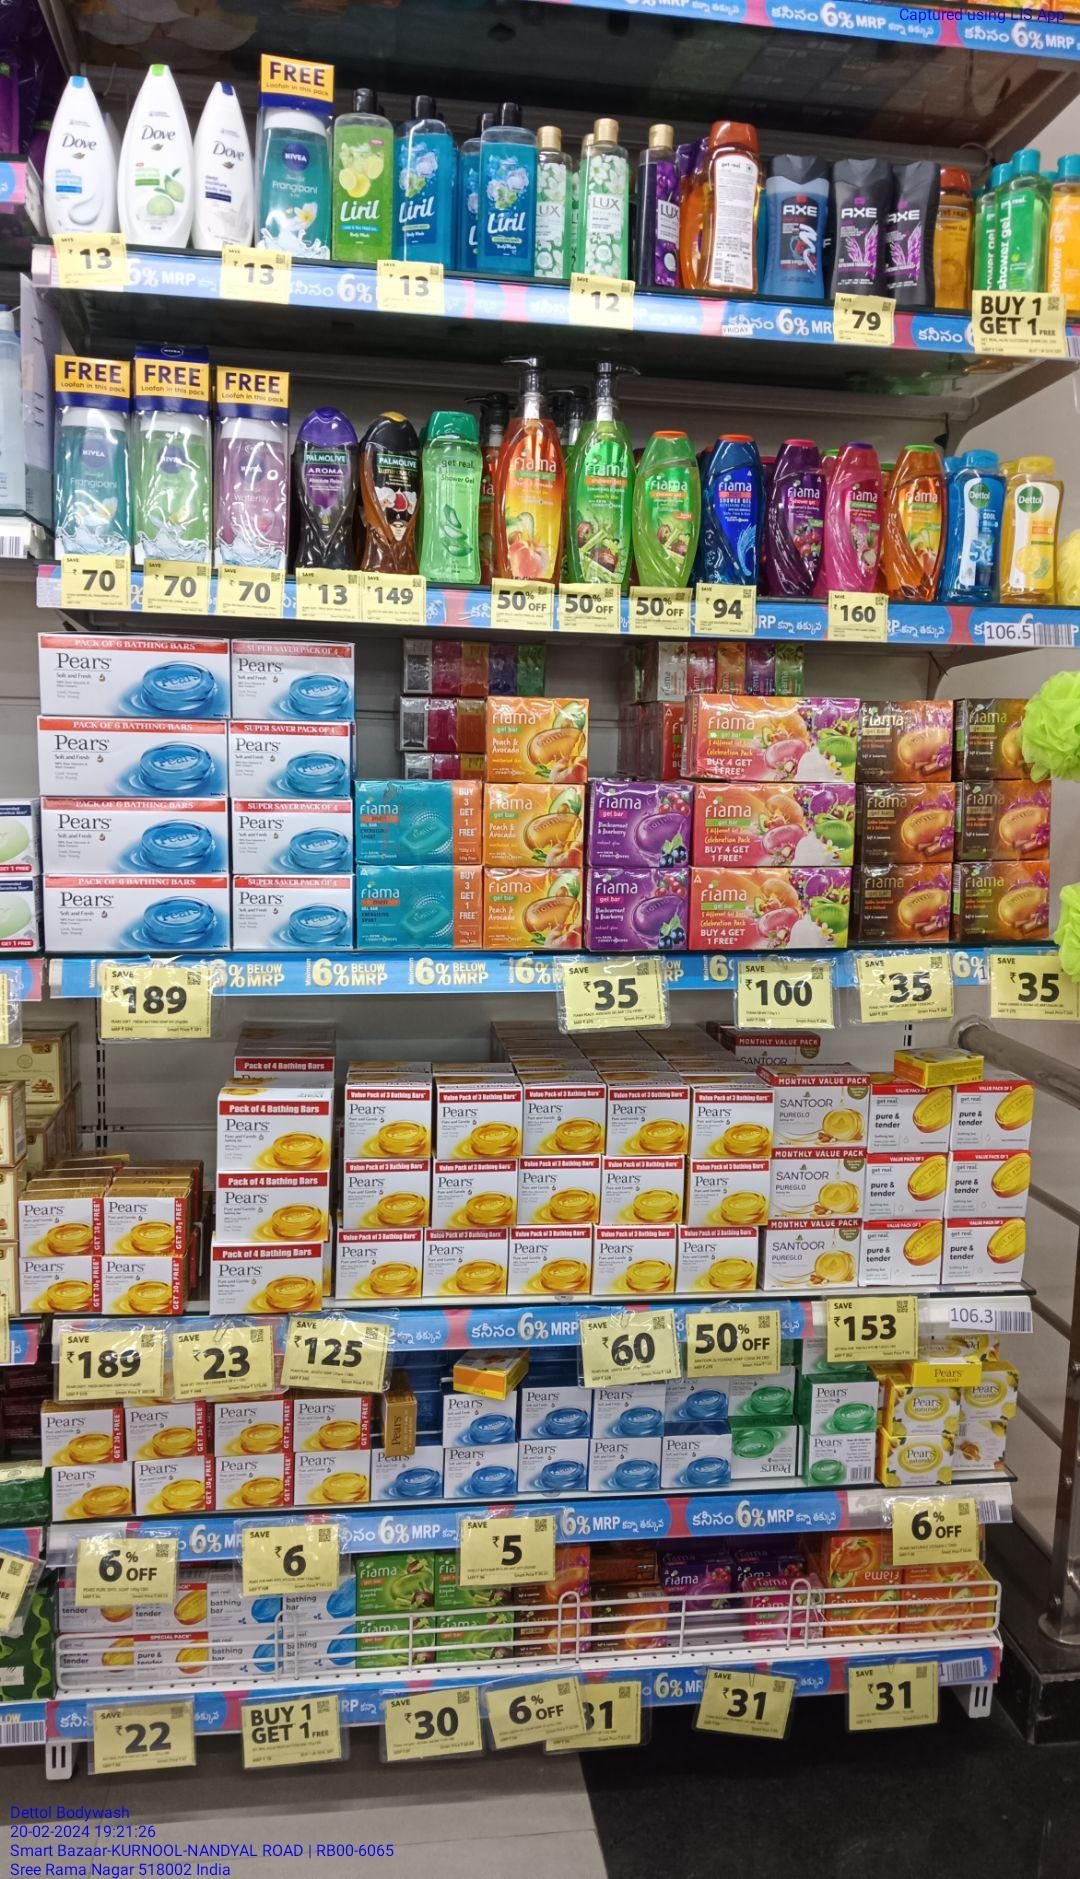Dettol_Bodywash_Cool: (946, 449, 1005, 604)
Dettol_Bodywash_Refresh: (1009, 450, 1062, 605)
Dove_Deep_Moisture_Body_Wash_250ML: (196, 68, 255, 245)
Dove_Gentle_Exfoliating_Body_Wash_250ML: (44, 70, 115, 236)
Dove_Refreshing_Body_Wash_250ML: (123, 62, 191, 230)
Fiama_Shower_Gel_Lemongrass_and_Jojoba_250ML: (635, 430, 699, 586)
Fiama_Shower_Gel_Patchouli_and_Macadamia_250ML: (826, 441, 881, 591)
Fiama_Shower_Gel_Peach_and_Avocado_250ML: (889, 443, 942, 600)
Liril_Cooling_Mint_Body_Wash_250ML: (477, 95, 538, 275), (397, 92, 455, 258)
Liril_Lime_and_Tea_Tree_Oil_Body_Wash_250ML: (332, 80, 392, 259)
Lux_Black_Orchid_Scent_and_Juniper_Oil_Body_Wash_245ML: (640, 124, 681, 286)
Lux_Body_Wash_Skin_Detox_Freesia_Scent_and_Alove_Vera_245ML: (582, 111, 627, 277)
Palmolive_Aroma_Relax_250ML: (294, 408, 357, 567)
Palmolive_Luminous_Oils_With_White_Orchid_Shower_Gel_250ML: (361, 409, 421, 572)
